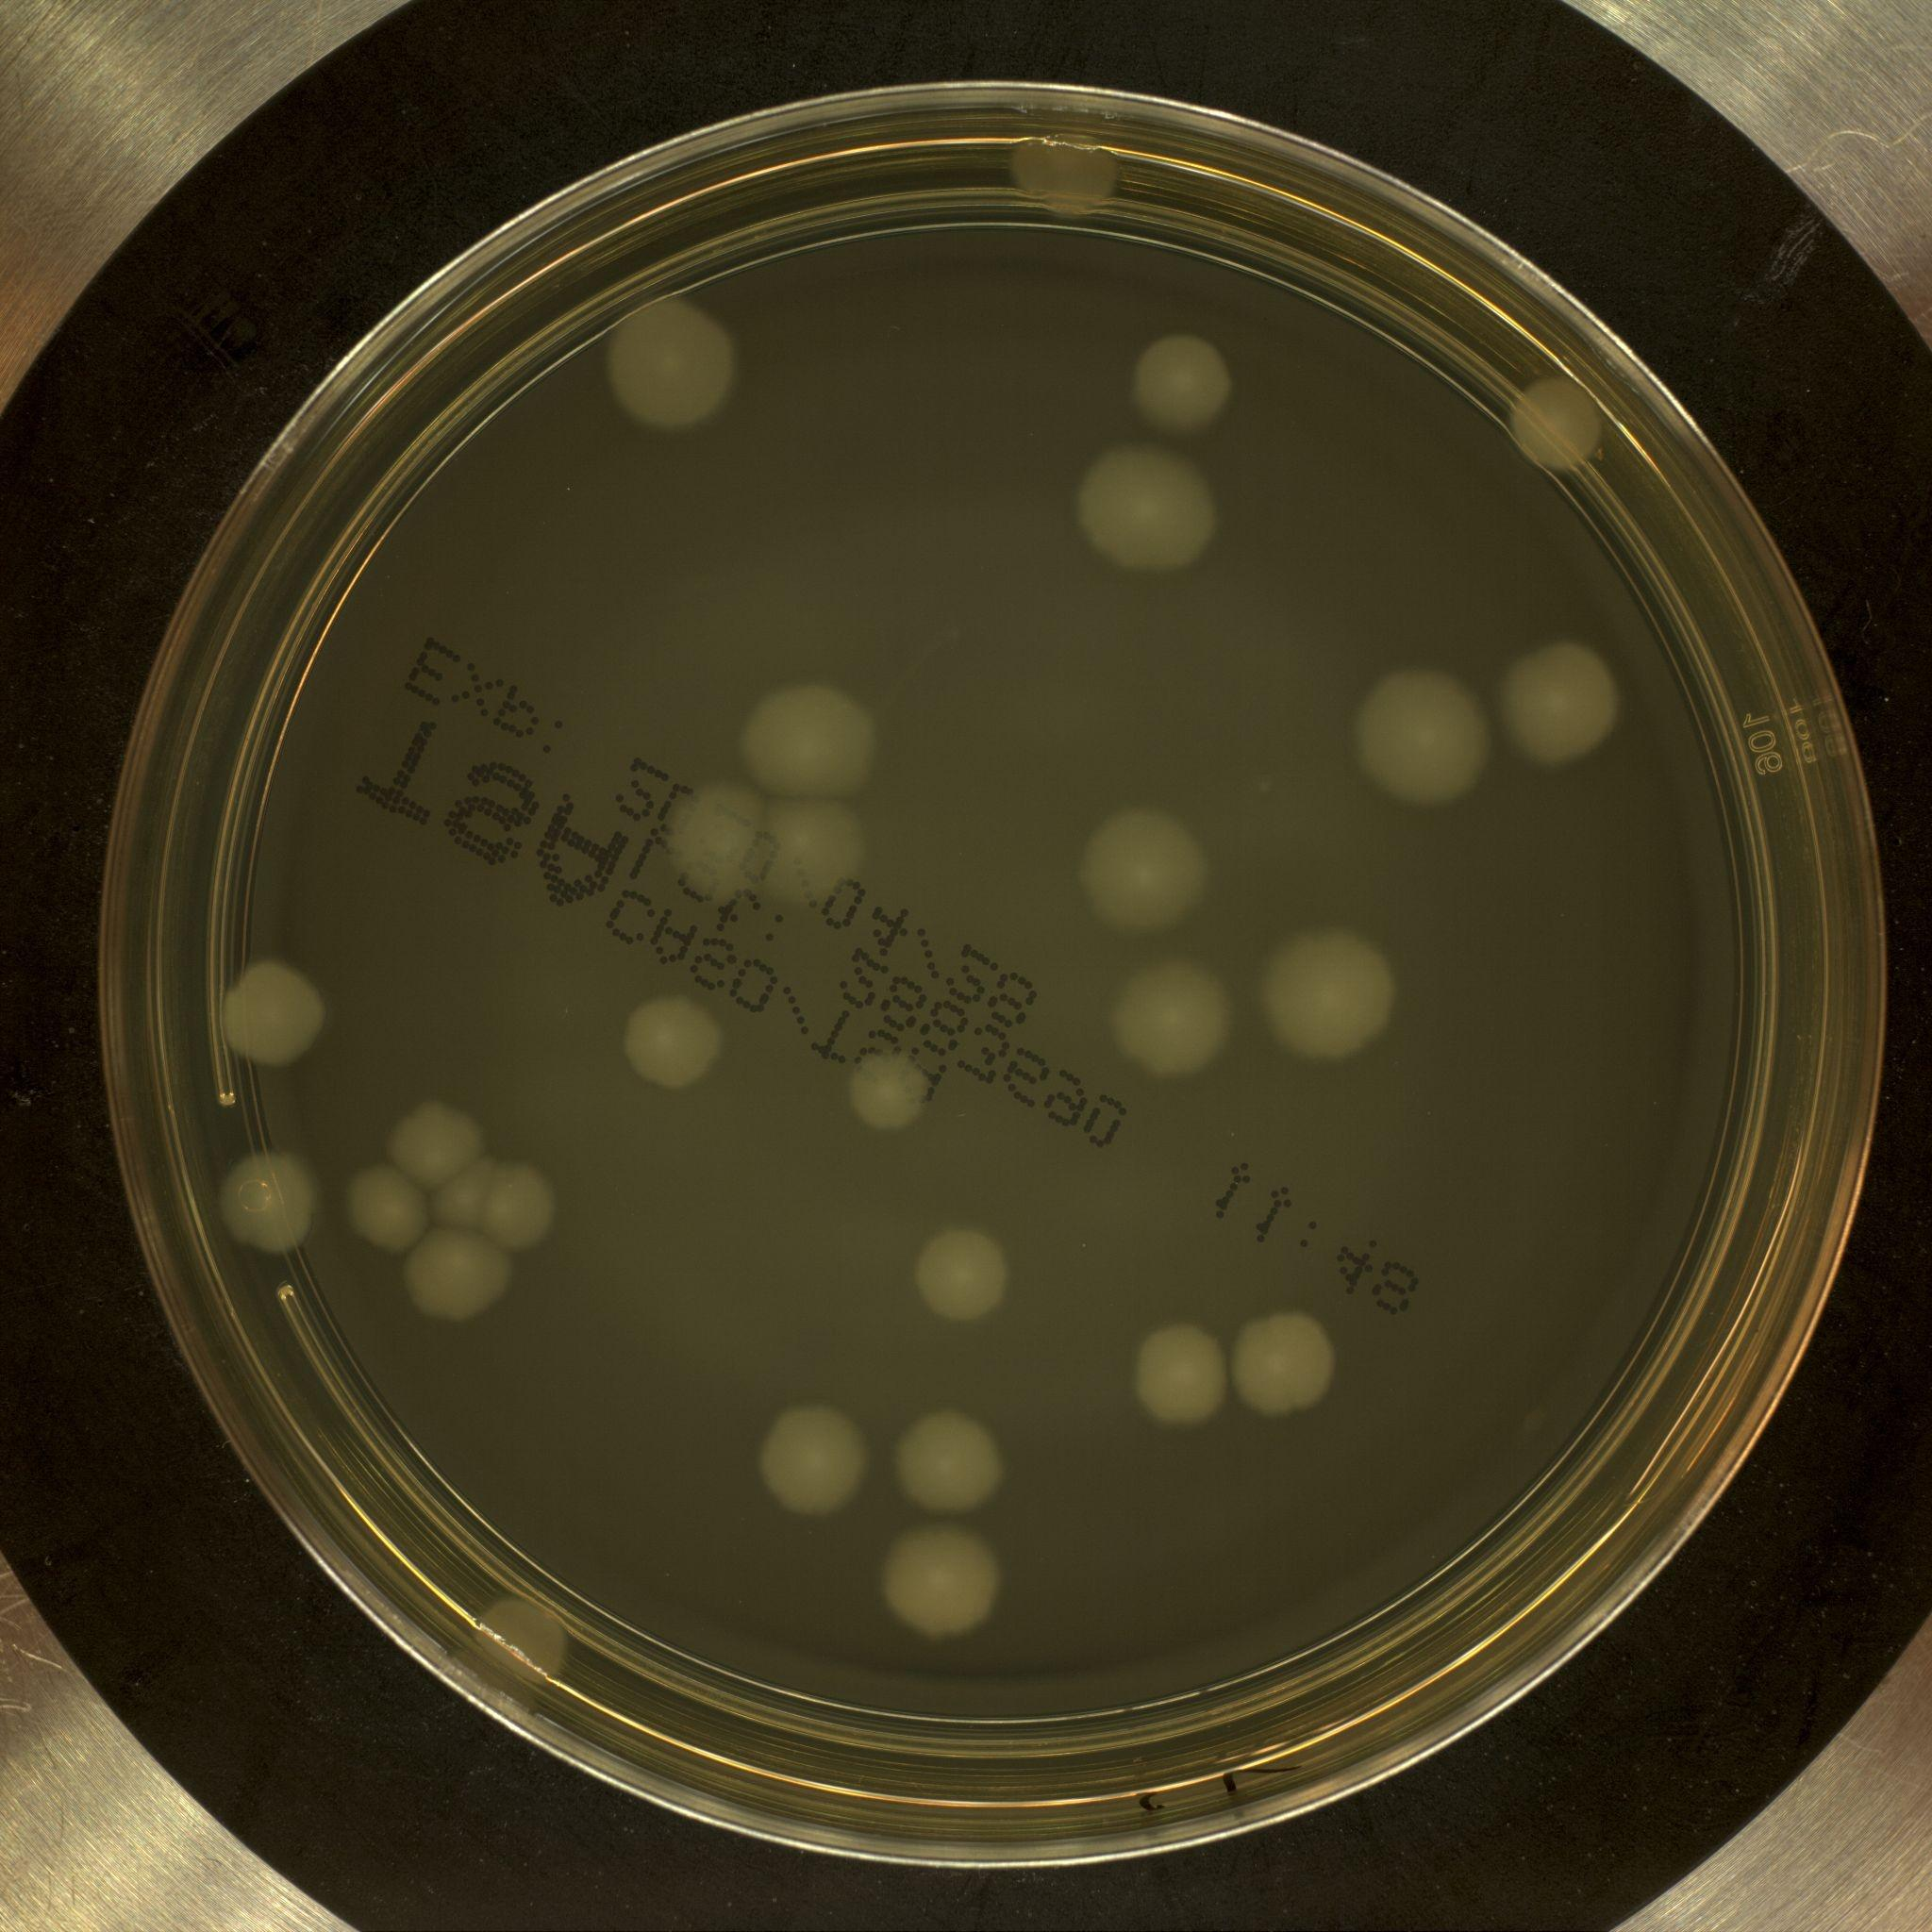e. coli: (1355, 660, 1498, 809), (1072, 443, 1226, 580), (607, 283, 739, 426), (1076, 800, 1215, 936), (739, 675, 888, 800), (1260, 926, 1396, 1061), (658, 783, 789, 904), (877, 1524, 1003, 1641), (1507, 641, 1616, 772), (1236, 1288, 1342, 1420), (1009, 108, 1125, 228), (756, 1396, 868, 1519), (1113, 964, 1232, 1077), (437, 1153, 569, 1255), (1501, 370, 1607, 489), (894, 1404, 1003, 1519), (213, 1140, 319, 1257), (220, 958, 333, 1066), (1121, 1321, 1236, 1426), (616, 991, 724, 1096), (1130, 328, 1234, 439), (770, 785, 871, 898), (411, 1231, 512, 1335), (482, 1592, 586, 1681), (392, 1099, 489, 1189), (916, 1224, 1003, 1323), (841, 1047, 932, 1140), (345, 1168, 432, 1247)
